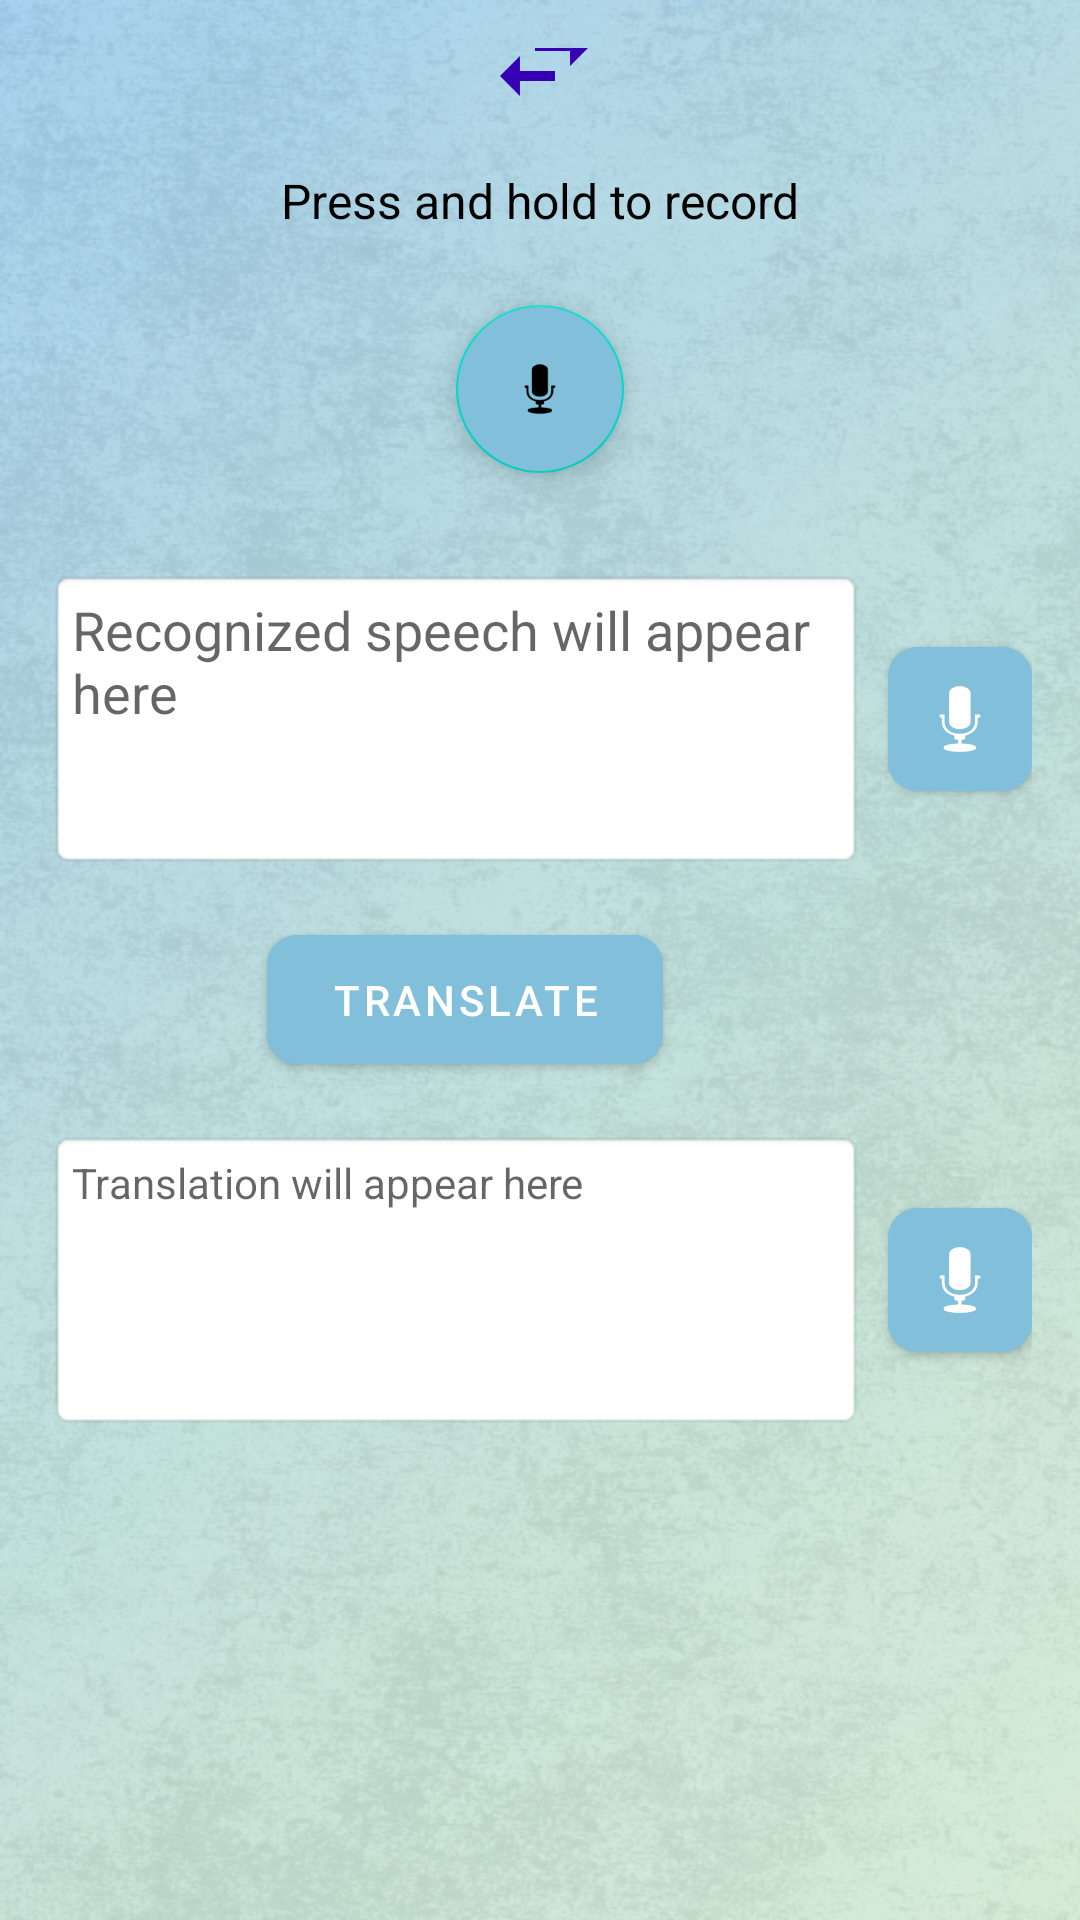

Locate icon controls on the screen. Image size 1080px x 1920px, boxes as (x1, y1, x2, y2).
speak now: (456, 305, 624, 473)
Speak text: (888, 647, 1032, 791), (888, 1208, 1032, 1352)
Swap Languages: (500, 48, 588, 96)
